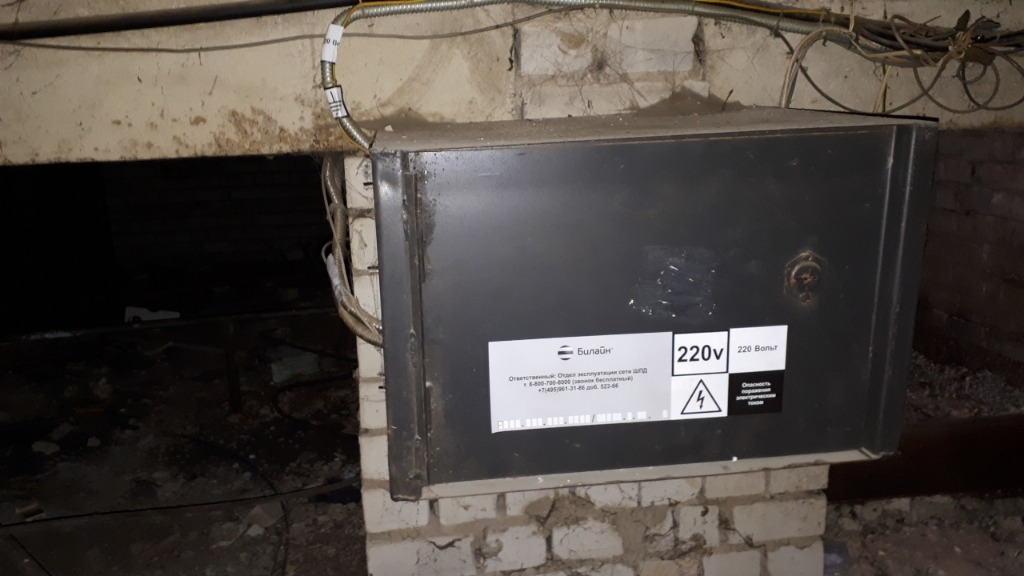e2-6u: (361, 101, 945, 516)
